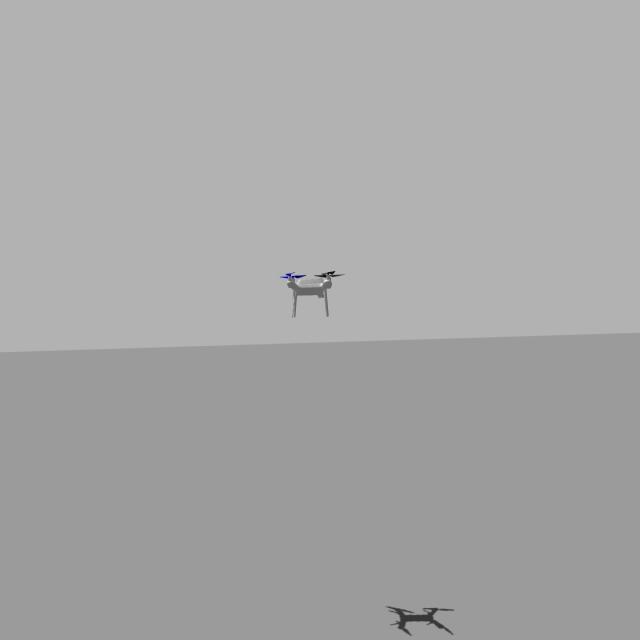Drone: (279, 259, 346, 323)
